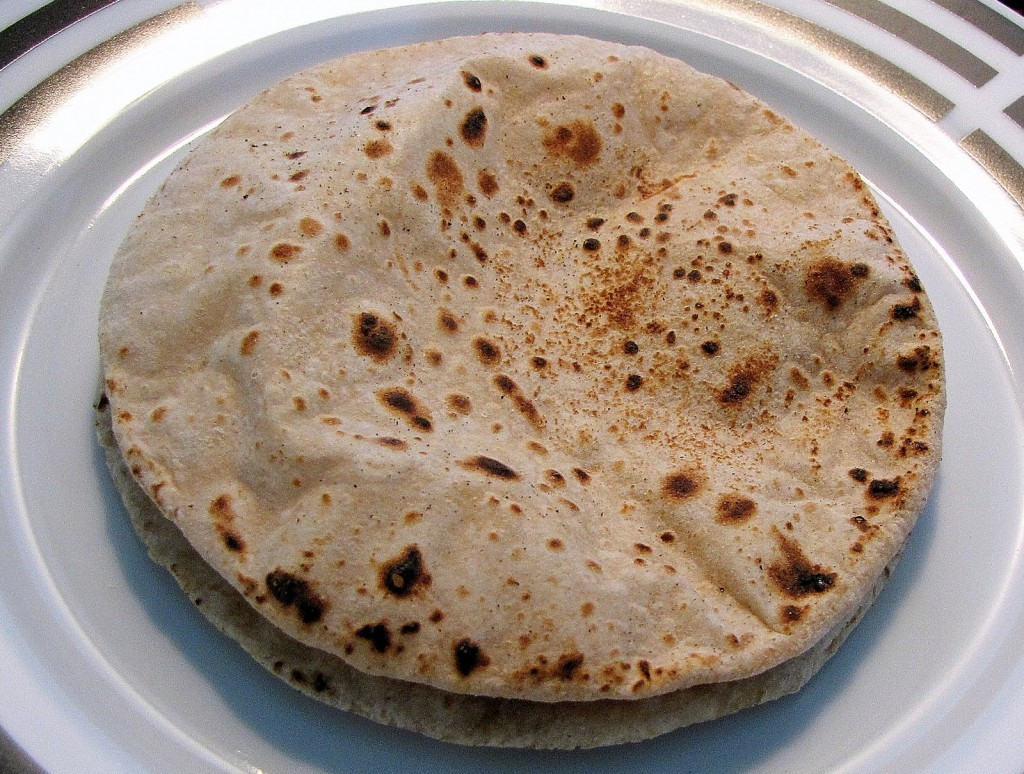roti: (149, 86, 862, 622)
